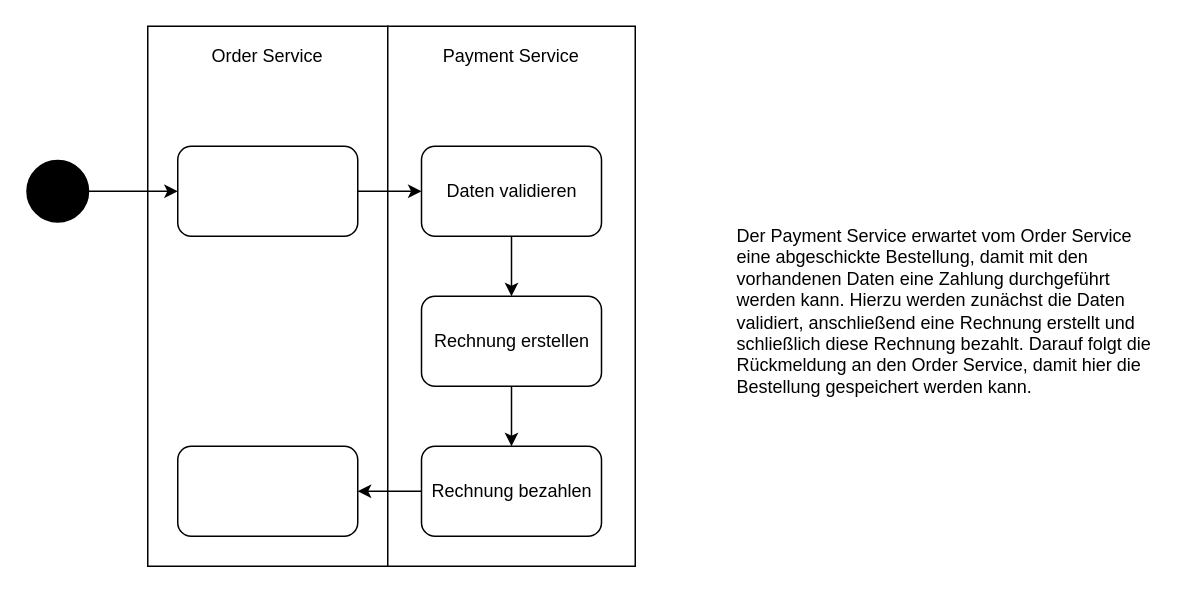
Image size: 1179x593. Some labels were removed from this diagram. Each missing label, with the centre of its shape:
Bestellung absenden: [267,190]
Bestellung speichern: [267,490]
